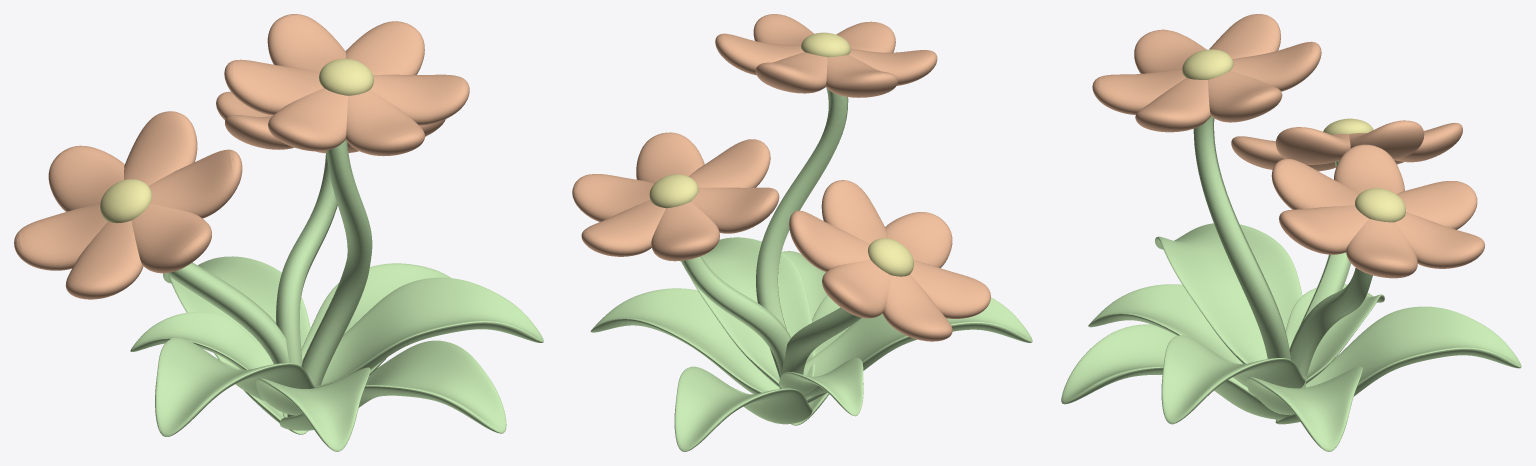
File: Naranja.fbx
3 renders of one model, left to right at view 1: azimuth 30°, elevation 25°; view 2: azimuth 150°, elevation 25°; view 3: azimuth 270°, elevation 25°, orthographic. The views are drawn at different scales.
Visible parts, largest first — view 1: Cube.013; view 2: Cube.013; view 3: Cube.013.
Part boxes in pixels (x1=…): Cube.013: x1=14, y1=14, x2=543, y2=451; Cube.013: x1=572, y1=14, x2=1032, y2=451; Cube.013: x1=1061, y1=14, x2=1521, y2=451.
Size of the model in its own units: 158 by 143 by 157.
